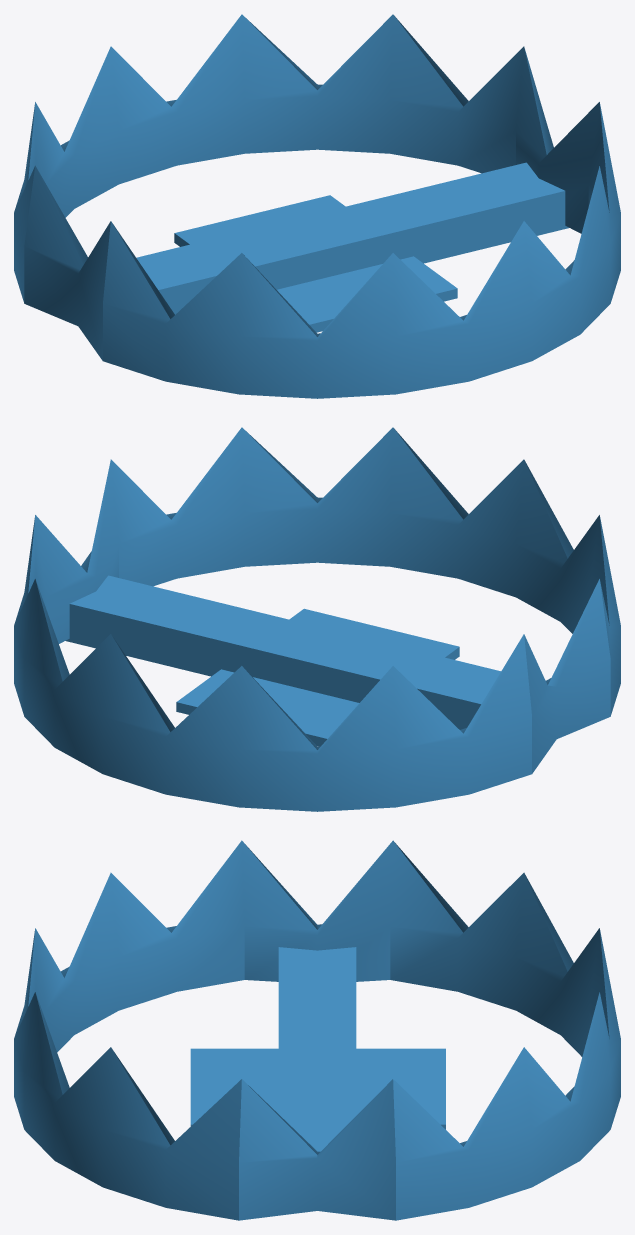
Rendered from bomba.fbx.
3 views of the same model, one above another, from view 1: azimuth 30°, elevation 25°; view 2: azimuth 150°, elevation 25°; view 3: azimuth 270°, elevation 25° (orthographic).
Visible parts, largest first — view 1: Circle.020; view 2: Circle.020; view 3: Circle.020.
Boxes of the visible parts, x1,y1,x2,y2 form: Circle.020: [14, 14, 620, 398]; Circle.020: [14, 427, 620, 811]; Circle.020: [14, 840, 620, 1220].
Bounding box in the file's own units: 0.6191 × 0.1598 × 0.6409.
